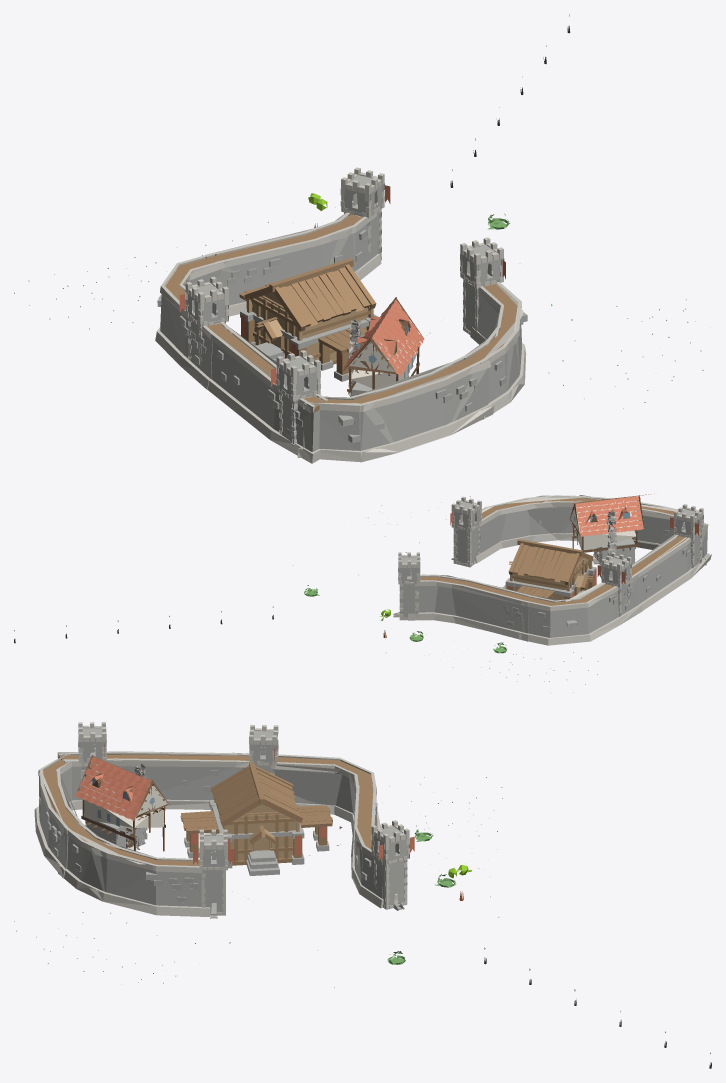
The model's file is chunk_0_0_lod1.glb.
3 views of the same model, one above another, from view 1: azimuth 30°, elevation 25°; view 2: azimuth 150°, elevation 25°; view 3: azimuth 270°, elevation 25° (orthographic). The views are drawn at different scales.
Visible parts, largest first — view 1: Batched_chunk_0_0_lod1; view 2: Batched_chunk_0_0_lod1; view 3: Batched_chunk_0_0_lod1.
Part boxes in pixels (x1,y1,x2,y2): Batched_chunk_0_0_lod1: [14, 14, 703, 463]; Batched_chunk_0_0_lod1: [14, 493, 711, 692]; Batched_chunk_0_0_lod1: [14, 722, 711, 1068].
Size of the model in its own units: 110 by 13.91 by 111.
Materials: 24 (1 with a texture image).
